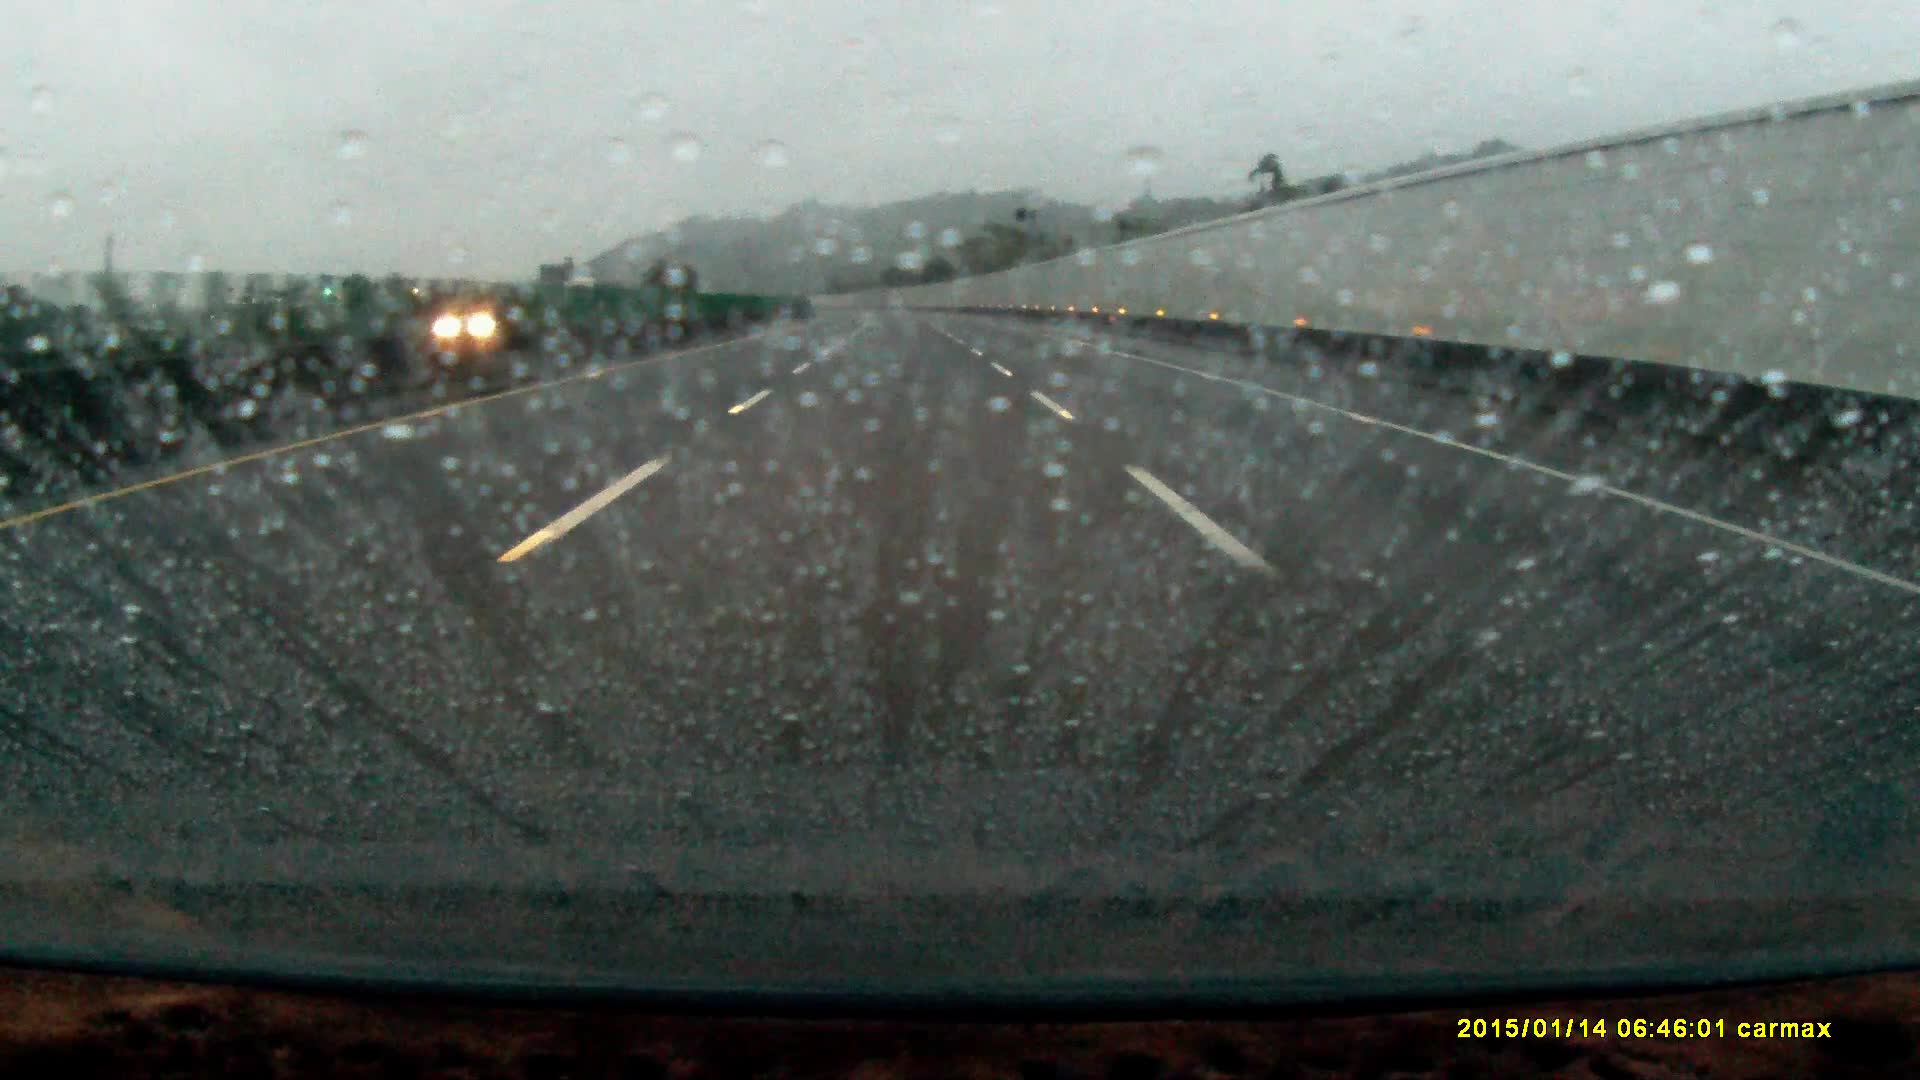vehicle: (436, 302, 518, 339)
